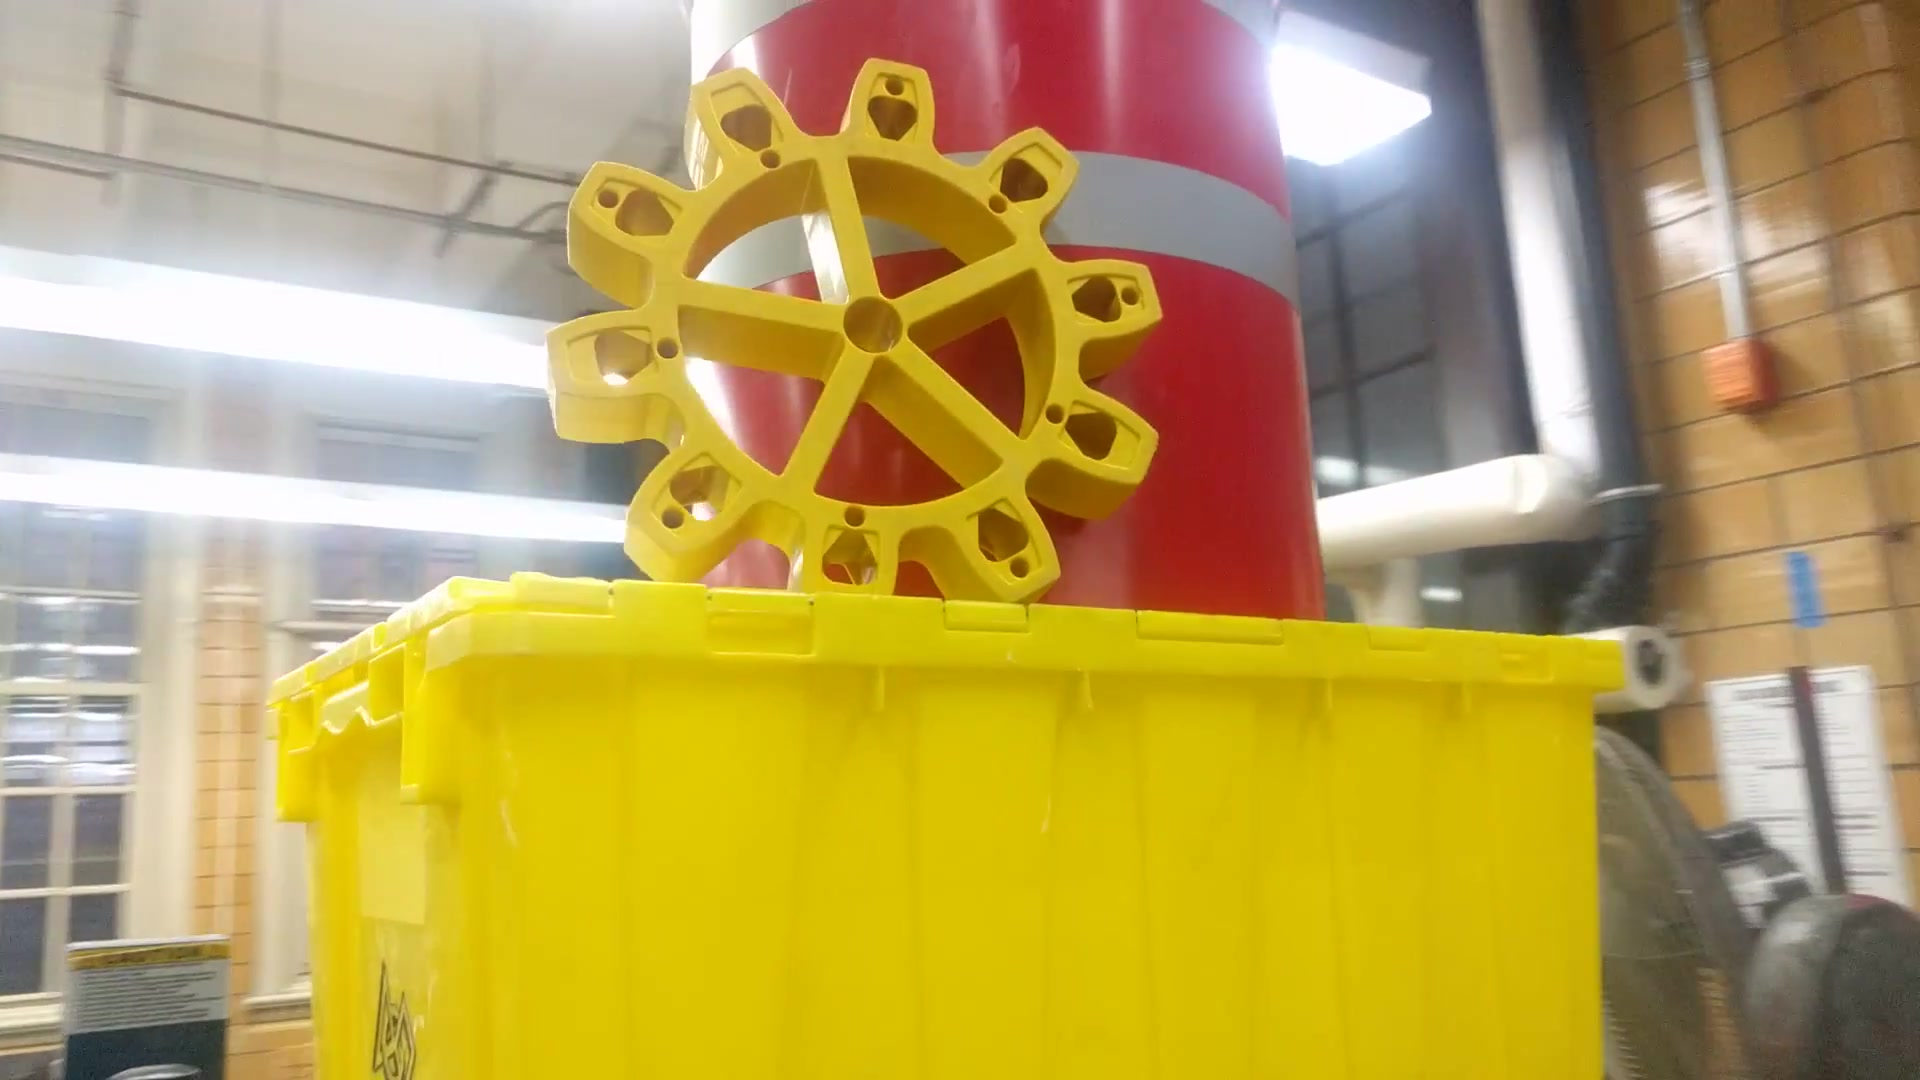gear: (535, 40, 1168, 621)
